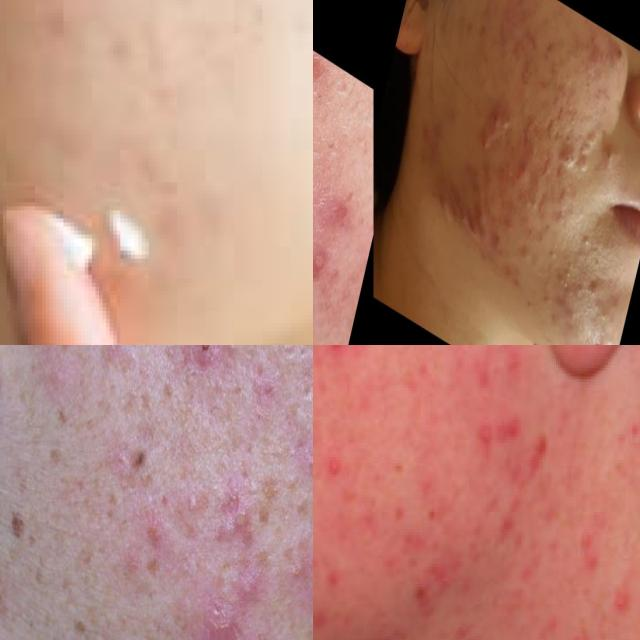comedone: (580, 56, 606, 98), (520, 185, 542, 218), (545, 236, 563, 270), (560, 252, 578, 284), (578, 233, 594, 262), (595, 306, 613, 328), (556, 274, 572, 296), (564, 97, 576, 119)
papule: (210, 484, 263, 561), (194, 345, 230, 402), (498, 141, 532, 199), (196, 605, 247, 640), (548, 178, 580, 232), (601, 140, 629, 183), (552, 134, 578, 180), (520, 112, 546, 148), (499, 266, 523, 293), (536, 152, 554, 183), (488, 227, 503, 250), (586, 332, 607, 345)
sebo-crystan-conglo: (478, 98, 512, 165), (454, 195, 494, 246), (313, 228, 337, 295), (576, 118, 602, 160), (573, 146, 595, 185)
